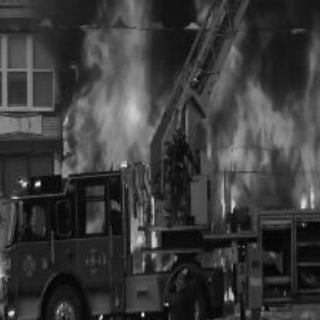Fire: (52, 2, 312, 278)
other: (0, 239, 127, 291), (8, 169, 50, 195), (99, 294, 131, 316), (1, 297, 24, 317)
